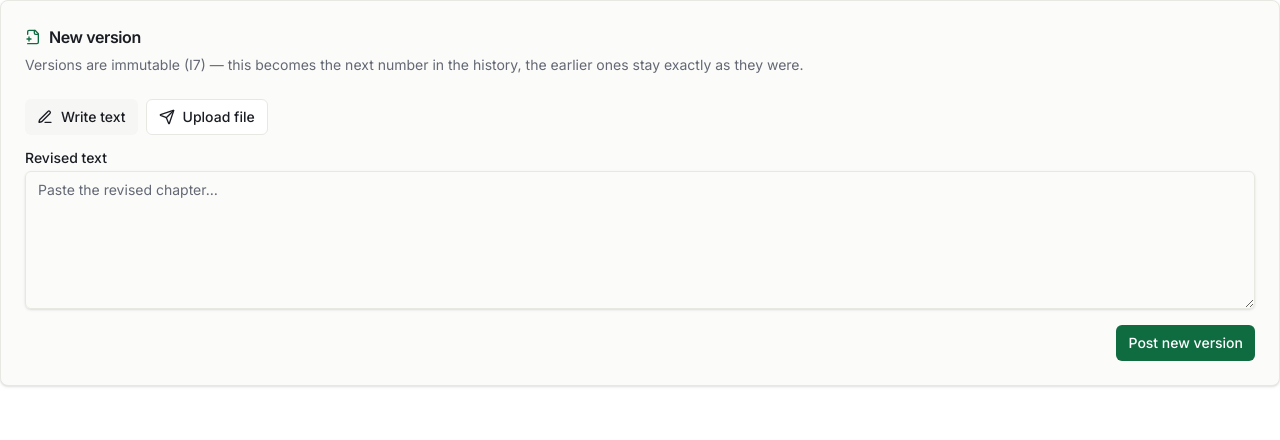
Test: VersionComposer (§11.5 new version, task 11.3 history) › refuses an empty text version with an inline error
What coordinates should you click on to do the following:
click the button "Post new version"
I would click on:
 (1186, 343)
Its box is [1116,325,1255,361].
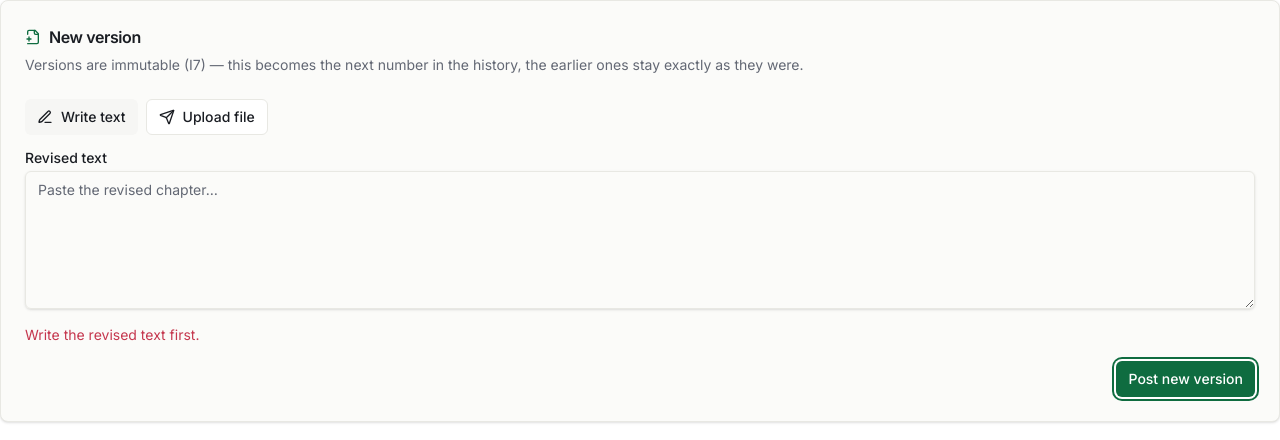
Expected: the message reads "Write the revised text first.", [25,326,199,343]
